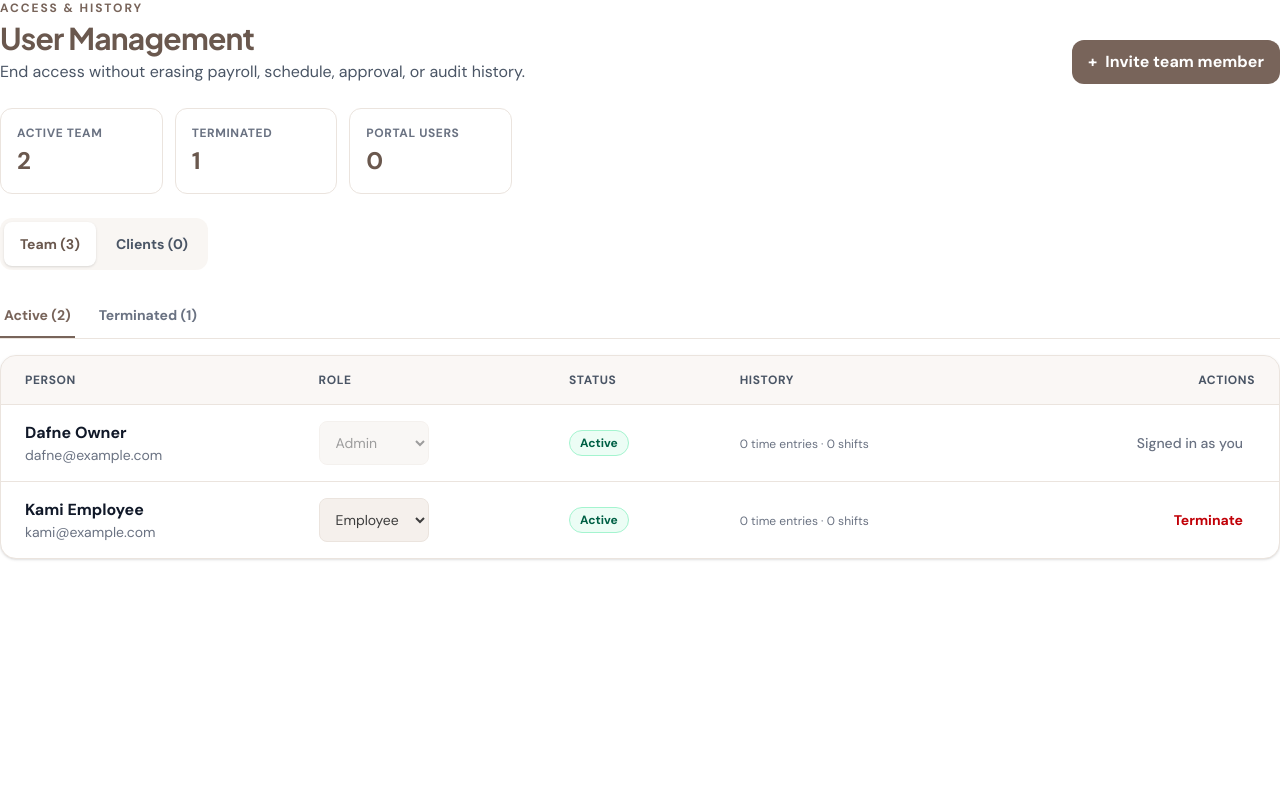
Scenario: Users › shows termination failures inside the active dialog
Click the button "Terminate" at (1208, 520), box [1162, 498, 1255, 542]
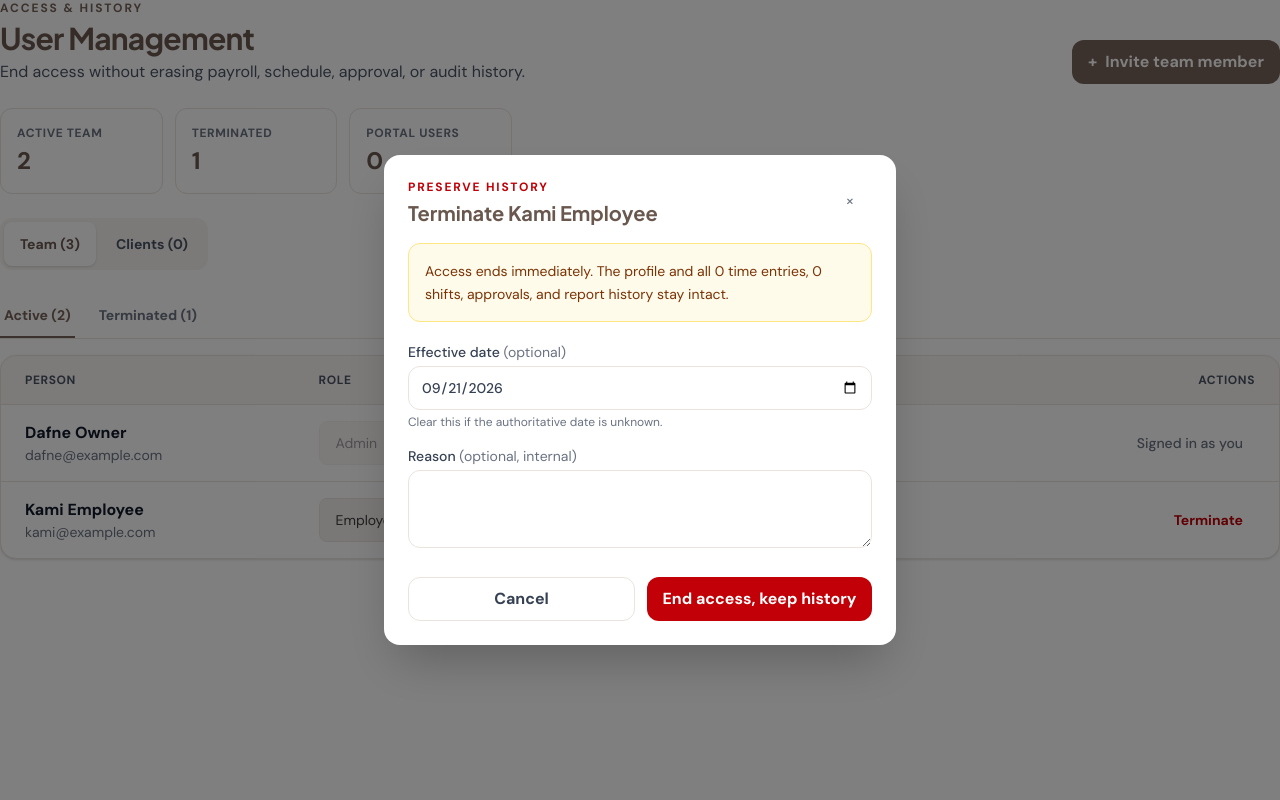
Click the button "End access, keep history" at (760, 599), box [647, 577, 872, 621]
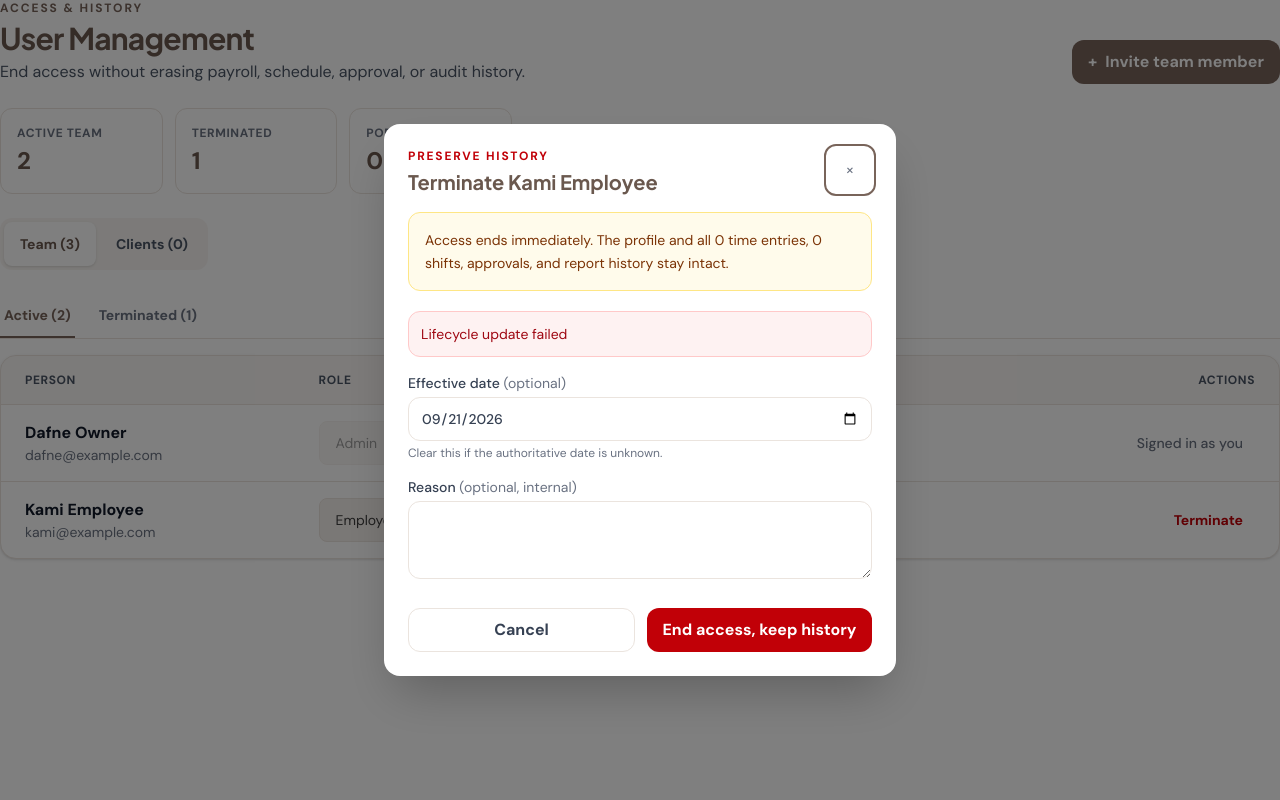
Expected: the message reads "Lifecycle update failed", [421, 325, 567, 343]
